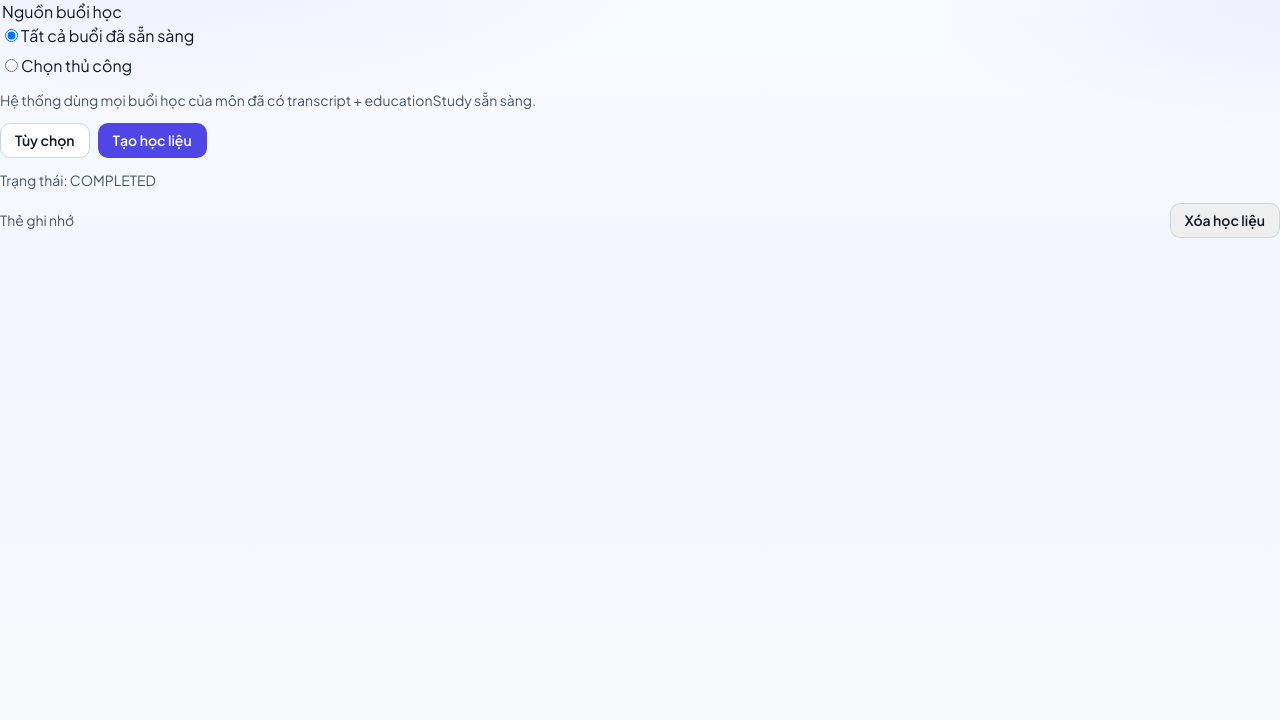
it: StudyArtifactTabPanel delete flow › refreshes artifact list after successful delete
Click the button with test id "artifact-delete-btn". click: click(1225, 220)
box: [1170,203,1279,238]
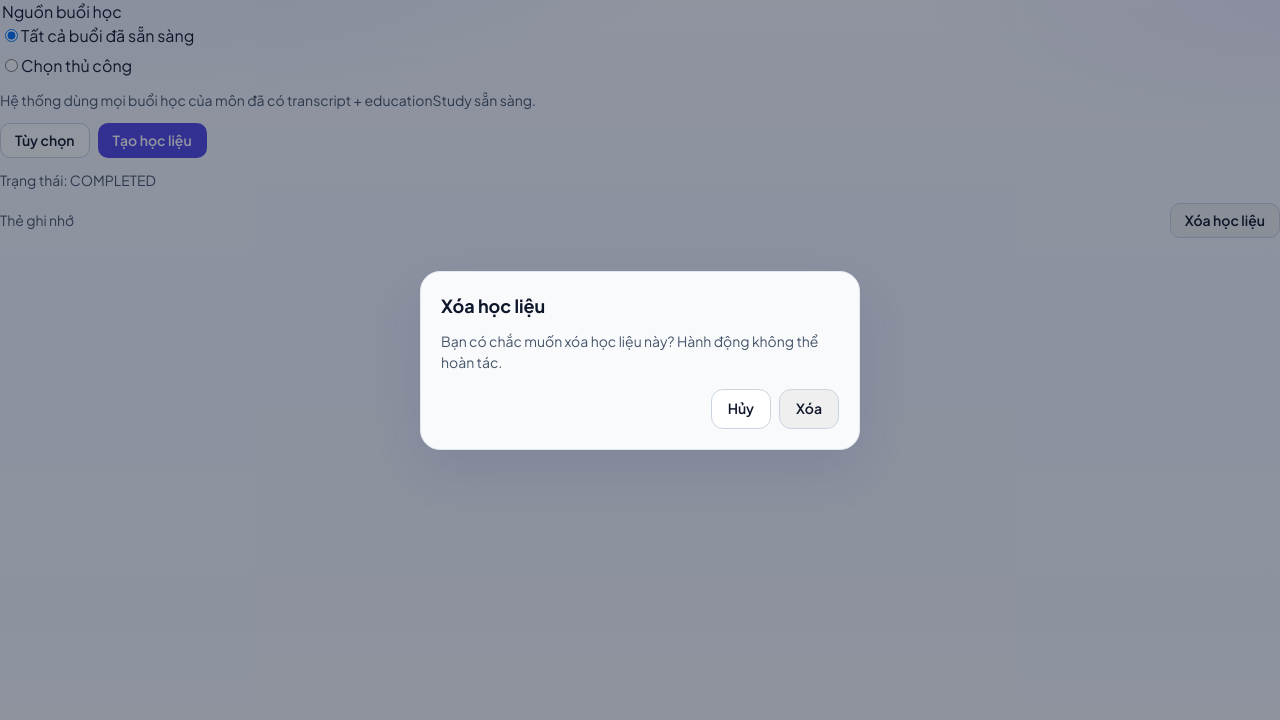
Click the button with test id "artifact-delete-dialog-confirm". click: click(809, 408)
box: [779,388,839,428]
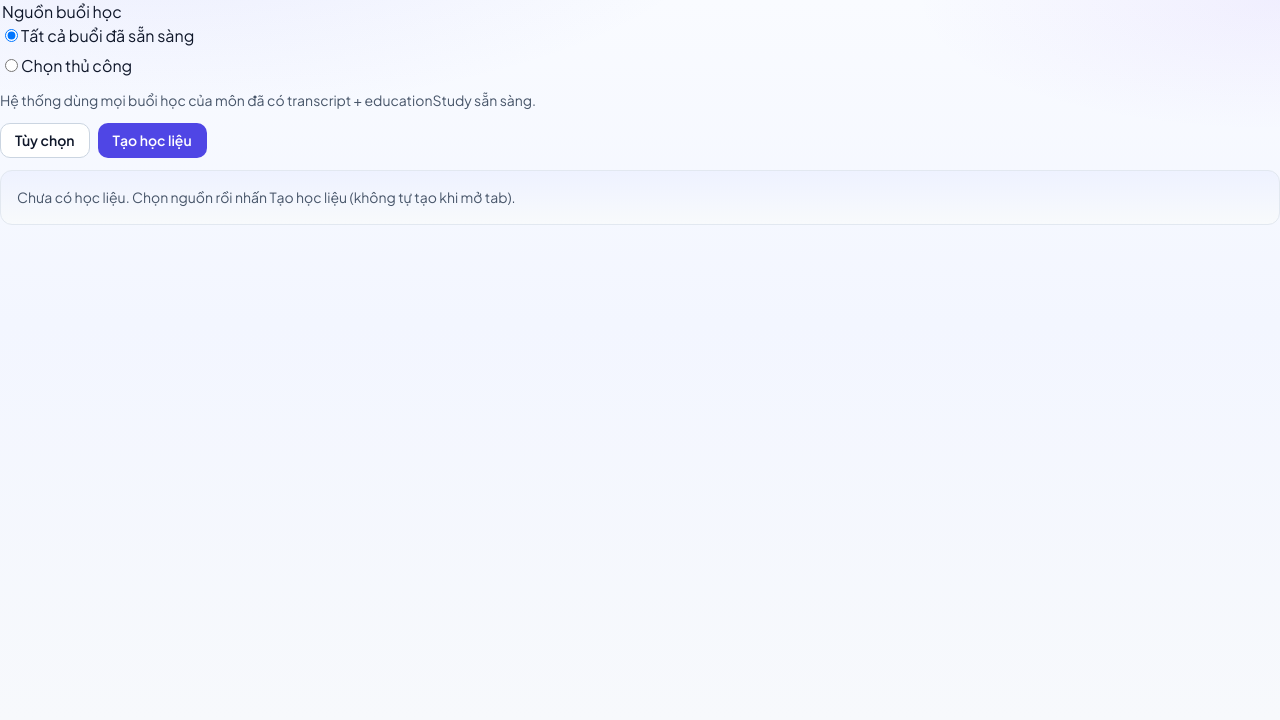
Now the button with test id "artifact-delete-btn" is gone
